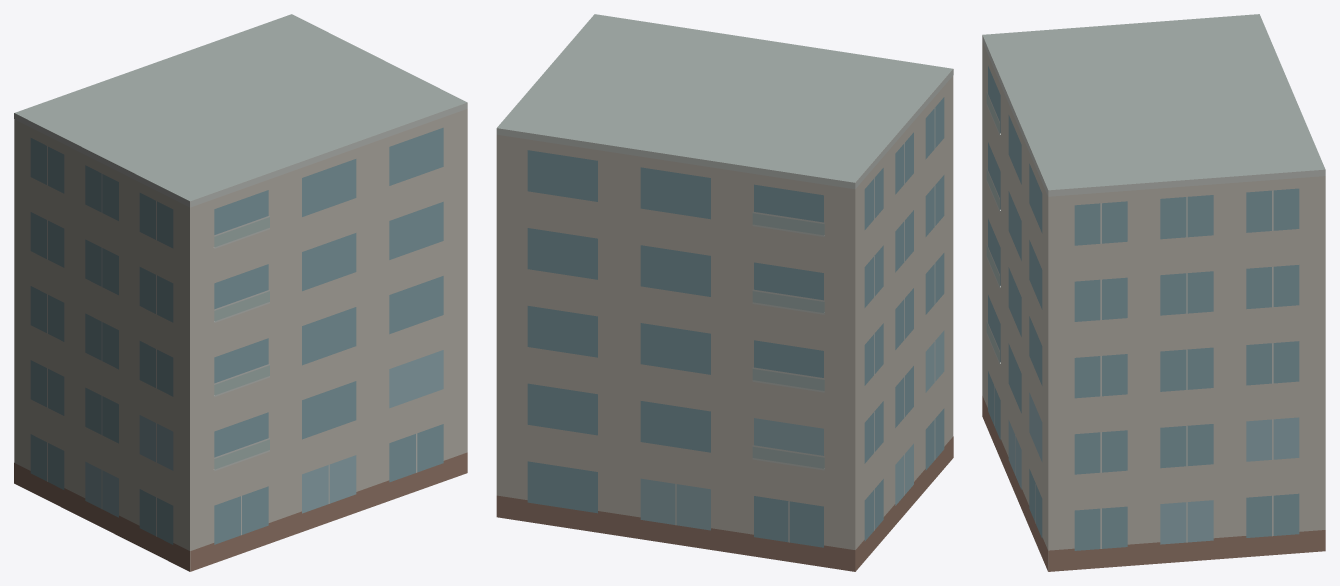
The model's file is survey-upis-32541356.glb.
3 views of the same model, side by side, from view 1: azimuth 30°, elevation 25°; view 2: azimuth 150°, elevation 25°; view 3: azimuth 270°, elevation 25° (orthographic). The views are drawn at different scales.
Parts seen in each view (by area): view 1: survey-upis-32541356.tmp; view 2: survey-upis-32541356.tmp; view 3: survey-upis-32541356.tmp.
Part boxes in pixels (<box>): survey-upis-32541356.tmp: <box>14,14,467,571</box>; survey-upis-32541356.tmp: <box>496,14,953,571</box>; survey-upis-32541356.tmp: <box>982,14,1325,571</box>.
Size of the model in its own units: 14.48 by 14.6 by 11.91.
